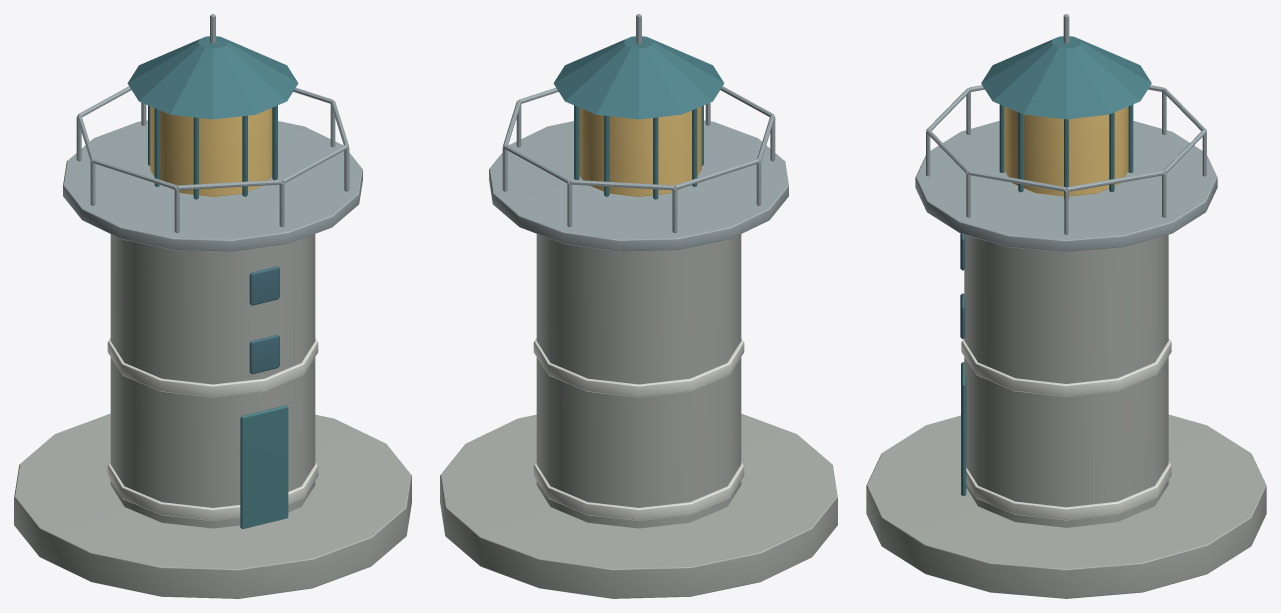
File: HarborBeacon.glb
3 views of the same model, side by side, from view 1: azimuth 30°, elevation 25°; view 2: azimuth 150°, elevation 25°; view 3: azimuth 270°, elevation 25° (orthographic).
Visible parts, largest first — view 1: Stone tower, Beacon footing, Gallery, Lantern roof, Lantern glazing, Service door, Tower band.001, Tower band, Tower window.001, Tower window, Gallery railing.005; view 2: Stone tower, Beacon footing, Gallery, Lantern roof, Lantern glazing, Tower band, Tower band.001, Gallery railing.002; view 3: Stone tower, Beacon footing, Gallery, Lantern roof, Lantern glazing, Tower band.001, Tower band, Service door, Gallery railing, Gallery railing.007.
Part boxes in pixels (bbox=[...]): Stone tower: bbox=[110, 234, 315, 528]; Beacon footing: bbox=[14, 413, 411, 598]; Gallery: bbox=[63, 120, 362, 251]; Lantern roof: bbox=[127, 36, 298, 119]; Lantern glazing: bbox=[150, 106, 272, 196]; Service door: bbox=[240, 405, 288, 528]; Tower band.001: bbox=[107, 338, 318, 397]; Tower band: bbox=[107, 462, 318, 520]; Tower window.001: bbox=[249, 266, 279, 305]; Tower window: bbox=[249, 334, 279, 374]; Gallery railing.005: bbox=[177, 179, 282, 190]; Stone tower: bbox=[536, 234, 741, 528]; Beacon footing: bbox=[440, 413, 837, 598]; Gallery: bbox=[489, 120, 788, 251]; Lantern roof: bbox=[553, 36, 724, 119]; Lantern glazing: bbox=[579, 106, 701, 196]; Tower band: bbox=[533, 462, 744, 520]; Tower band.001: bbox=[533, 338, 744, 397]; Gallery railing.002: bbox=[569, 179, 674, 190]; Stone tower: bbox=[964, 234, 1168, 527]; Beacon footing: bbox=[866, 414, 1266, 598]; Gallery: bbox=[915, 121, 1217, 251]; Lantern roof: bbox=[981, 36, 1151, 119]; Lantern glazing: bbox=[1004, 106, 1128, 196]; Tower band.001: bbox=[961, 338, 1171, 396]; Tower band: bbox=[966, 461, 1171, 520]; Service door: bbox=[961, 362, 966, 495]; Gallery railing: bbox=[1066, 170, 1164, 191]; Gallery railing.007: bbox=[968, 170, 1066, 191].
Bounding box in the file's own units: 5.3 × 7.3 × 5.3.
